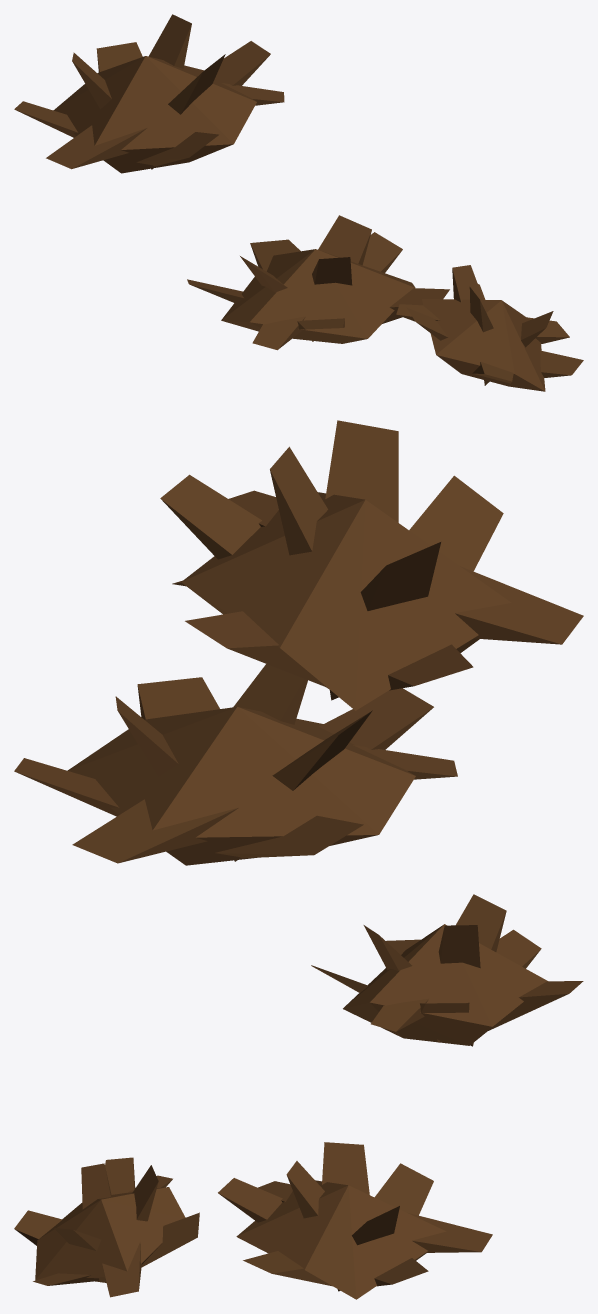
The model's file is SM_Flower_Dandelion_Floating_Mature_A.fbx.
3 renders of one model, top to bottom at view 1: azimuth 30°, elevation 25°; view 2: azimuth 150°, elevation 25°; view 3: azimuth 270°, elevation 25°, orthographic. The views are drawn at different scales.
Visible parts, largest first — view 1: flower-dandelion-floating-mature-a; view 2: flower-dandelion-floating-mature-a; view 3: flower-dandelion-floating-mature-a.
Part boxes in pixels (x1=…): flower-dandelion-floating-mature-a: x1=14, y1=14, x2=583, y2=391; flower-dandelion-floating-mature-a: x1=14, y1=420, x2=583, y2=865; flower-dandelion-floating-mature-a: x1=14, y1=894, x2=583, y2=1299.
Bounding box in the file's own units: 0.2749 × 0.2117 × 0.3472.
